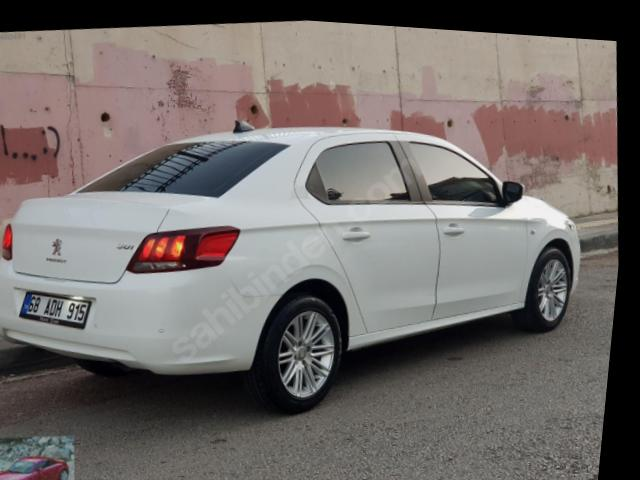plaka: (20, 292, 91, 328)
